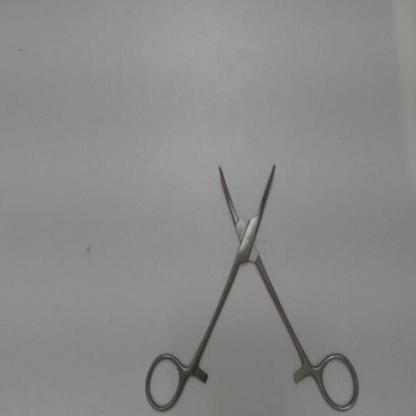Crile Artery Forceps: (134, 156, 361, 413)
